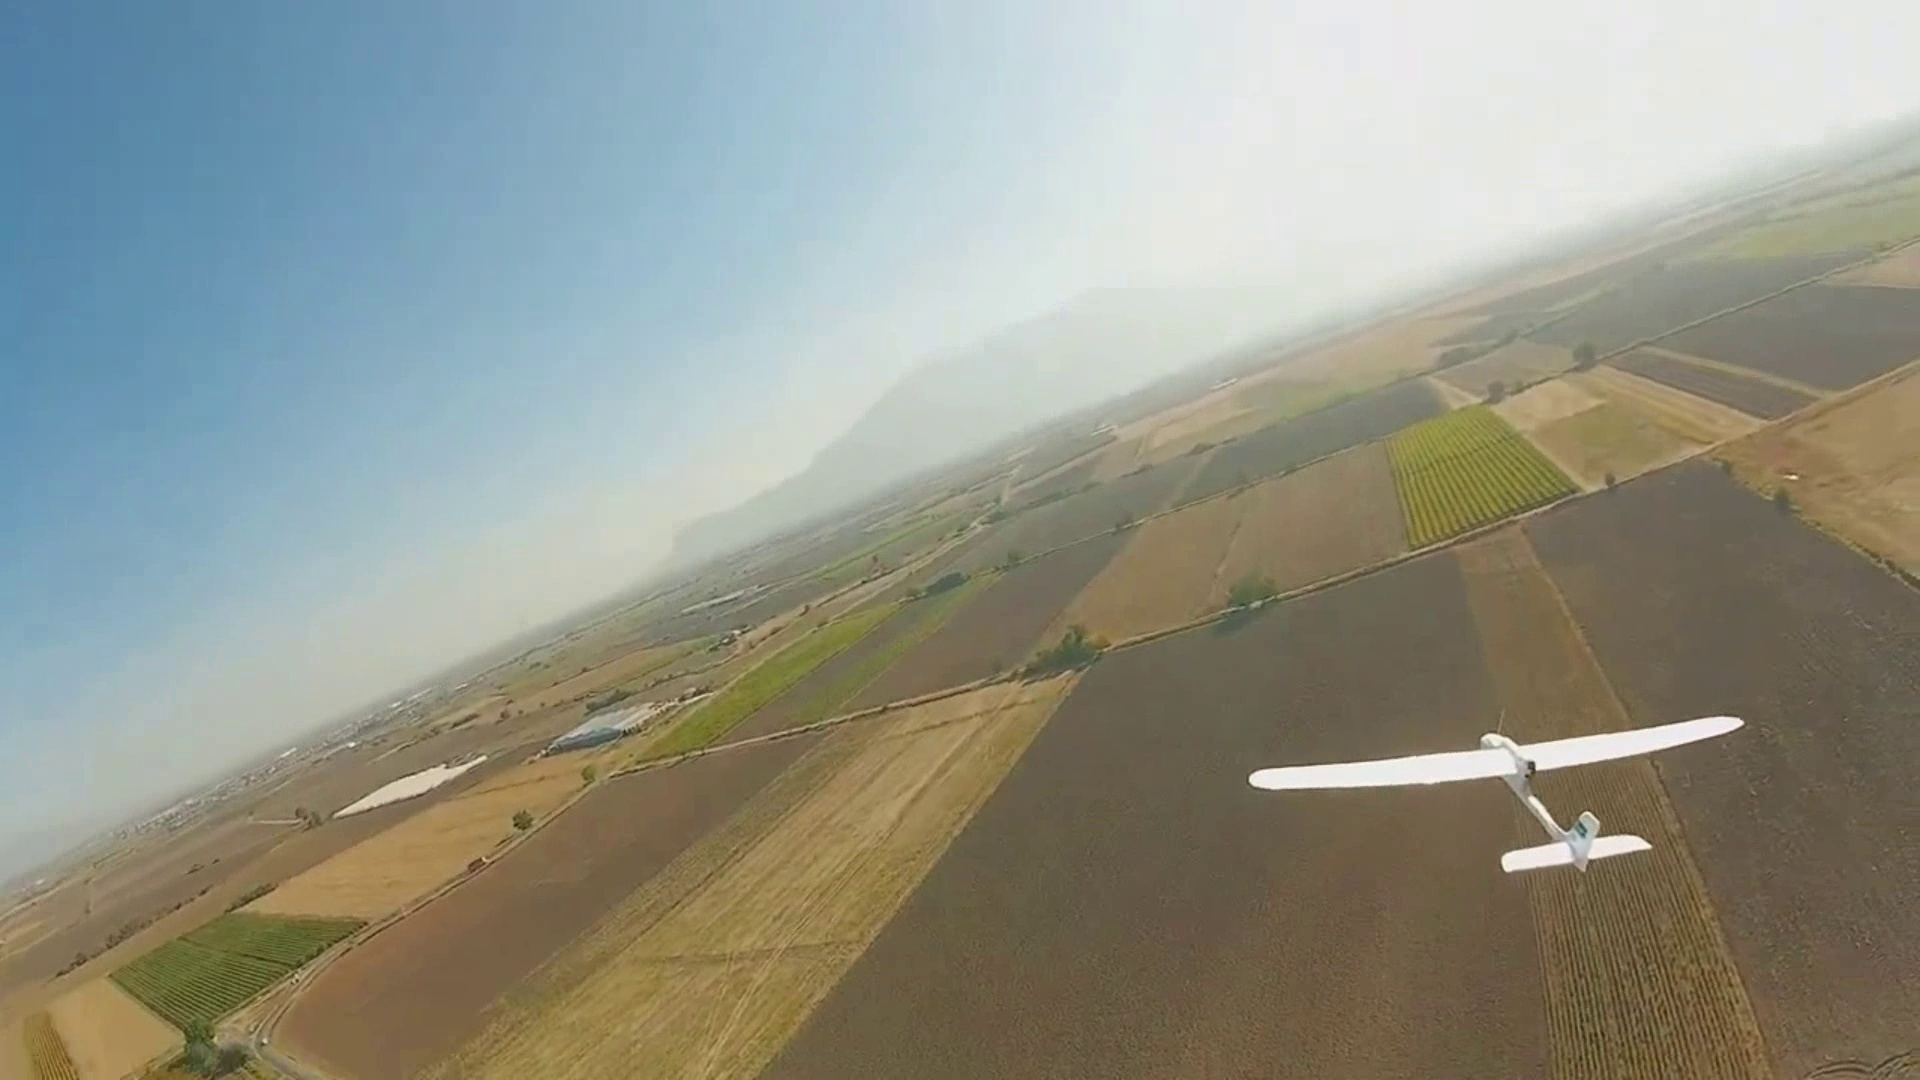airplane: (8, 137, 1911, 1071), (1250, 715, 1741, 876)
